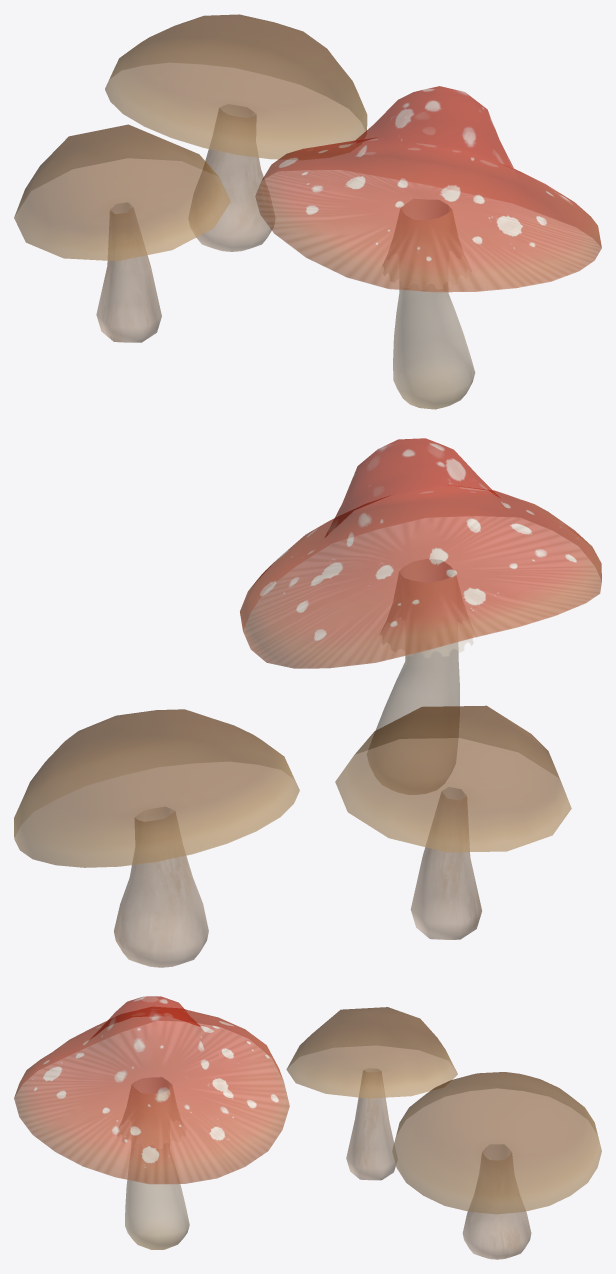
The model's file is mushrooms.fbx.
The picture shows the model from 3 angles, top to bottom: view 1: azimuth 30°, elevation 25°; view 2: azimuth 150°, elevation 25°; view 3: azimuth 270°, elevation 25°; orthographic projection. The views are drawn at different scales.
Parts seen in each view (by area): view 1: MYRKKYSIENI LOWPOLY, tatti lowpoly, tatti2; view 2: MYRKKYSIENI LOWPOLY, tatti lowpoly, tatti2; view 3: MYRKKYSIENI LOWPOLY, tatti lowpoly, tatti2.
Part boxes in pixels (x1,y1,x2,y2): MYRKKYSIENI LOWPOLY: (255, 86, 601, 409); tatti lowpoly: (105, 14, 367, 251); tatti2: (14, 124, 230, 342); MYRKKYSIENI LOWPOLY: (240, 438, 601, 794); tatti lowpoly: (14, 709, 299, 967); tatti2: (335, 705, 571, 939); MYRKKYSIENI LOWPOLY: (14, 996, 289, 1249); tatti lowpoly: (392, 1072, 601, 1259); tatti2: (286, 1007, 457, 1180).
Size of the model in its own units: 167 by 125 by 267.
